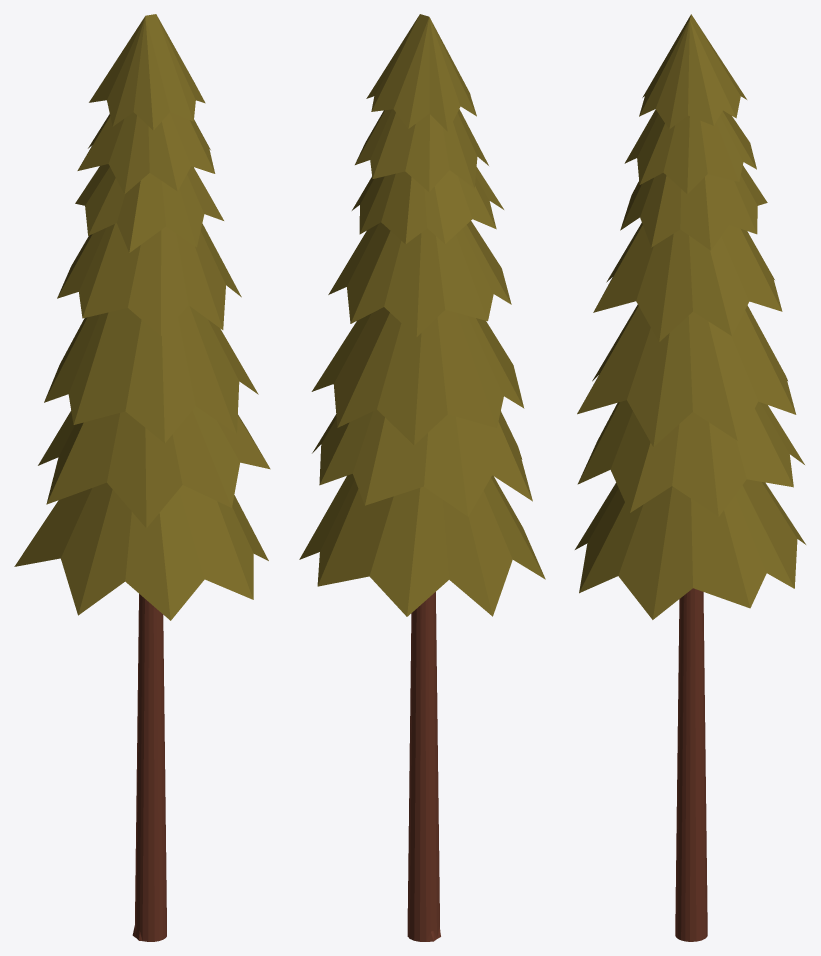
The model's file is pine_healthy.fbx.
3 views of the same model, side by side, from view 1: azimuth 30°, elevation 25°; view 2: azimuth 150°, elevation 25°; view 3: azimuth 270°, elevation 25° (orthographic).
Parts seen in each view (by area): view 1: Cylinder.014, Cylinder.016, Cylinder.015, Cylinder.017, pine_trunk.002, Cylinder.018, Cylinder.020, Cylinder.019; view 2: Cylinder.014, Cylinder.016, Cylinder.015, Cylinder.017, pine_trunk.002, Cylinder.018, Cylinder.020, Cylinder.019; view 3: Cylinder.014, Cylinder.016, Cylinder.015, Cylinder.017, pine_trunk.002, Cylinder.018, Cylinder.019, Cylinder.020.
Boxes of the visible parts, left/top/right/bottom form: Cylinder.014: left=14, top=482, right=268, bottom=620; Cylinder.016: left=44, top=305, right=258, bottom=443; Cylinder.015: left=38, top=406, right=270, bottom=528; Cylinder.017: left=57, top=223, right=241, bottom=335; pine_trunk.002: left=132, top=594, right=166, bottom=941; Cylinder.018: left=75, top=164, right=223, bottom=252; Cylinder.020: left=89, top=14, right=205, bottom=130; Cylinder.019: left=77, top=112, right=215, bottom=194; Cylinder.014: left=299, top=474, right=545, bottom=616; Cylinder.016: left=311, top=307, right=524, bottom=445; Cylinder.015: left=312, top=409, right=532, bottom=516; Cylinder.017: left=328, top=221, right=511, bottom=336; pine_trunk.002: left=407, top=592, right=440, bottom=941; Cylinder.018: left=352, top=167, right=503, bottom=244; Cylinder.020: left=366, top=14, right=476, bottom=131; Cylinder.019: left=355, top=109, right=488, bottom=191; Cylinder.014: left=575, top=479, right=805, bottom=619; Cylinder.016: left=577, top=304, right=796, bottom=446; Cylinder.015: left=577, top=400, right=804, bottom=516; Cylinder.017: left=593, top=223, right=782, bottom=341; pine_trunk.002: left=675, top=588, right=707, bottom=941; Cylinder.018: left=620, top=165, right=767, bottom=250; Cylinder.019: left=624, top=109, right=756, bottom=194; Cylinder.020: left=639, top=14, right=746, bottom=129.
Size of the model in its own units: 672 by 2872 by 658.
